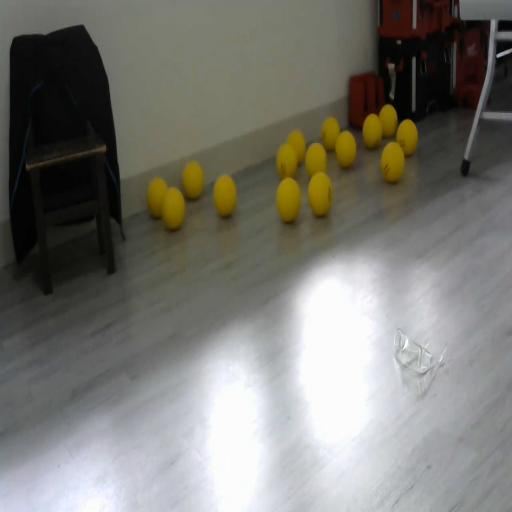FUEL: (306, 170, 333, 218), (275, 176, 302, 223), (212, 172, 238, 218), (380, 142, 405, 182), (182, 160, 204, 201), (146, 177, 168, 218), (335, 130, 357, 168), (396, 118, 418, 156), (305, 142, 327, 179), (286, 128, 306, 166), (362, 113, 383, 149), (378, 104, 398, 138), (321, 116, 340, 151)
